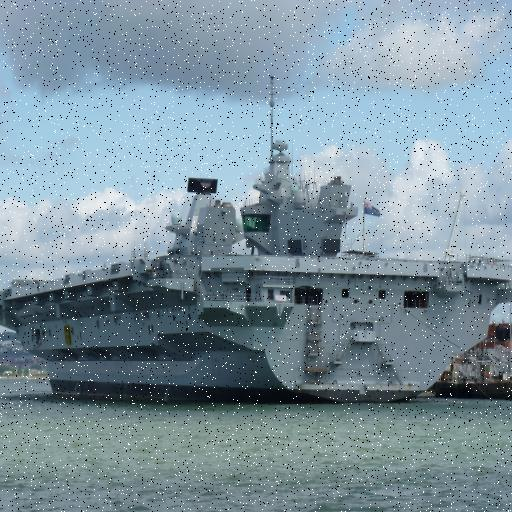Portanaves: (1, 113, 512, 414)
